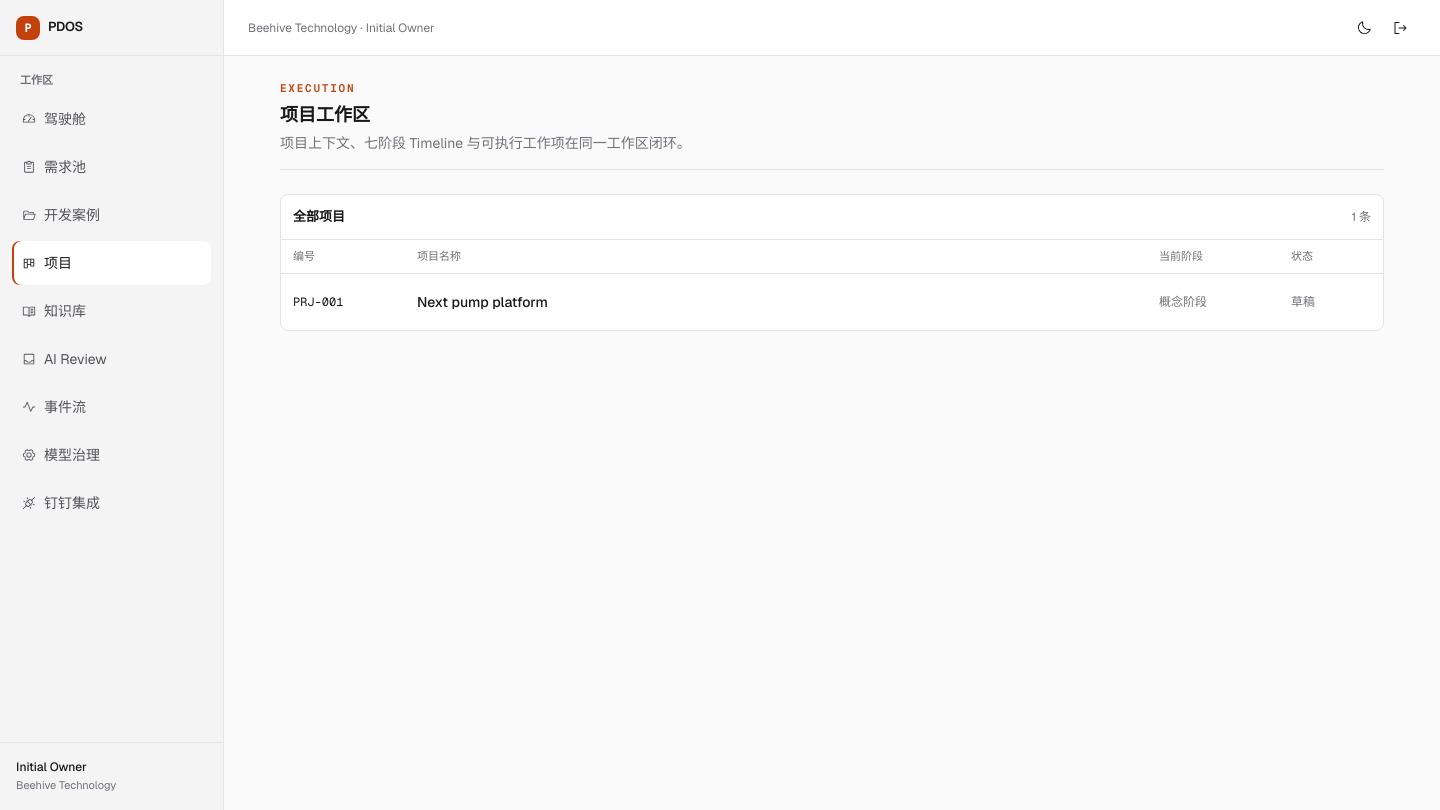
Scenario: ProjectWorkspace › keeps Gate load failures explicit and retryable
The image size is (1440, 810).
Click the button with aria-label "打开项目 PRJ-001": (318, 302) [281,274,1383,330]
(page scrolled)
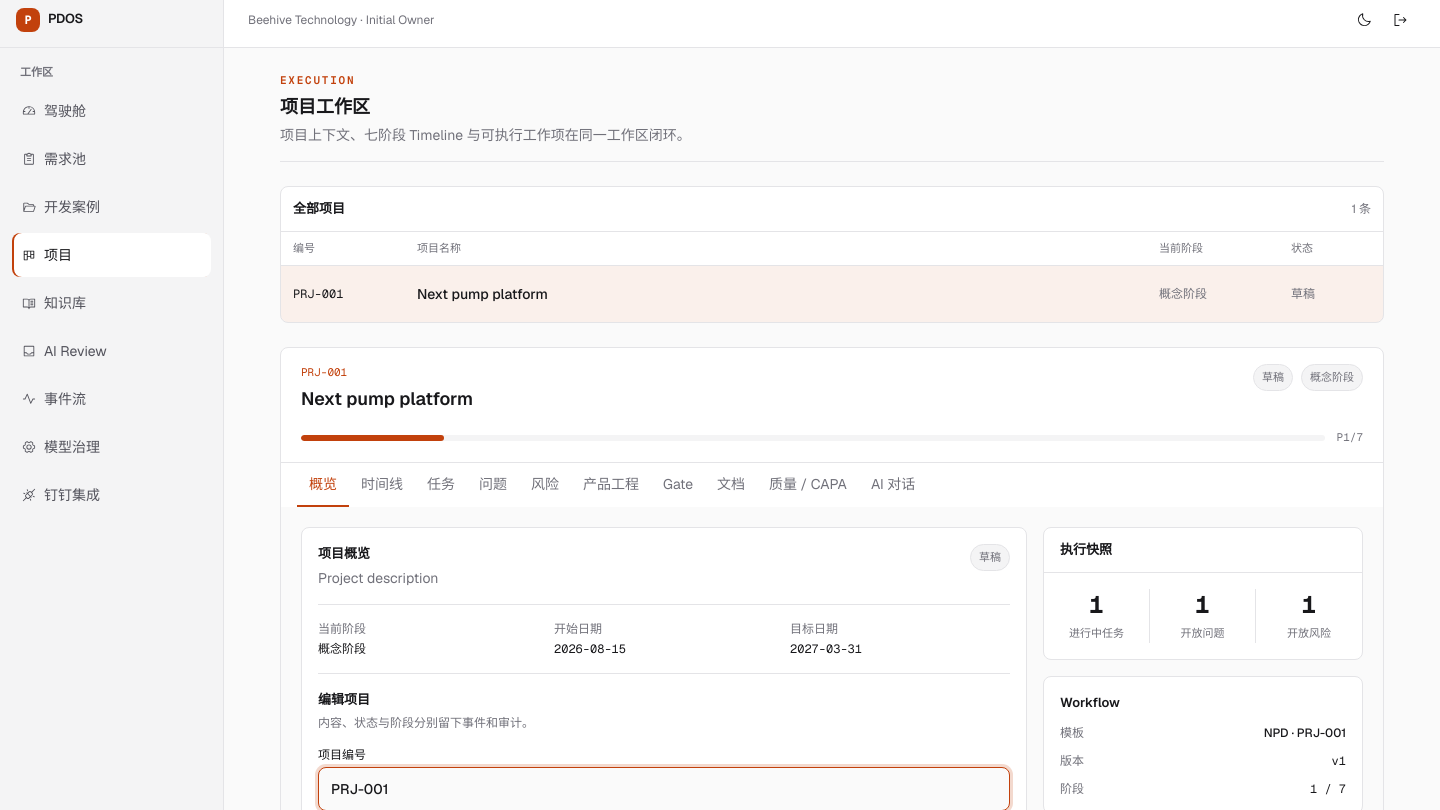
Click the tab "Gate": (678, 485) [651,463,705,507]
(page scrolled)
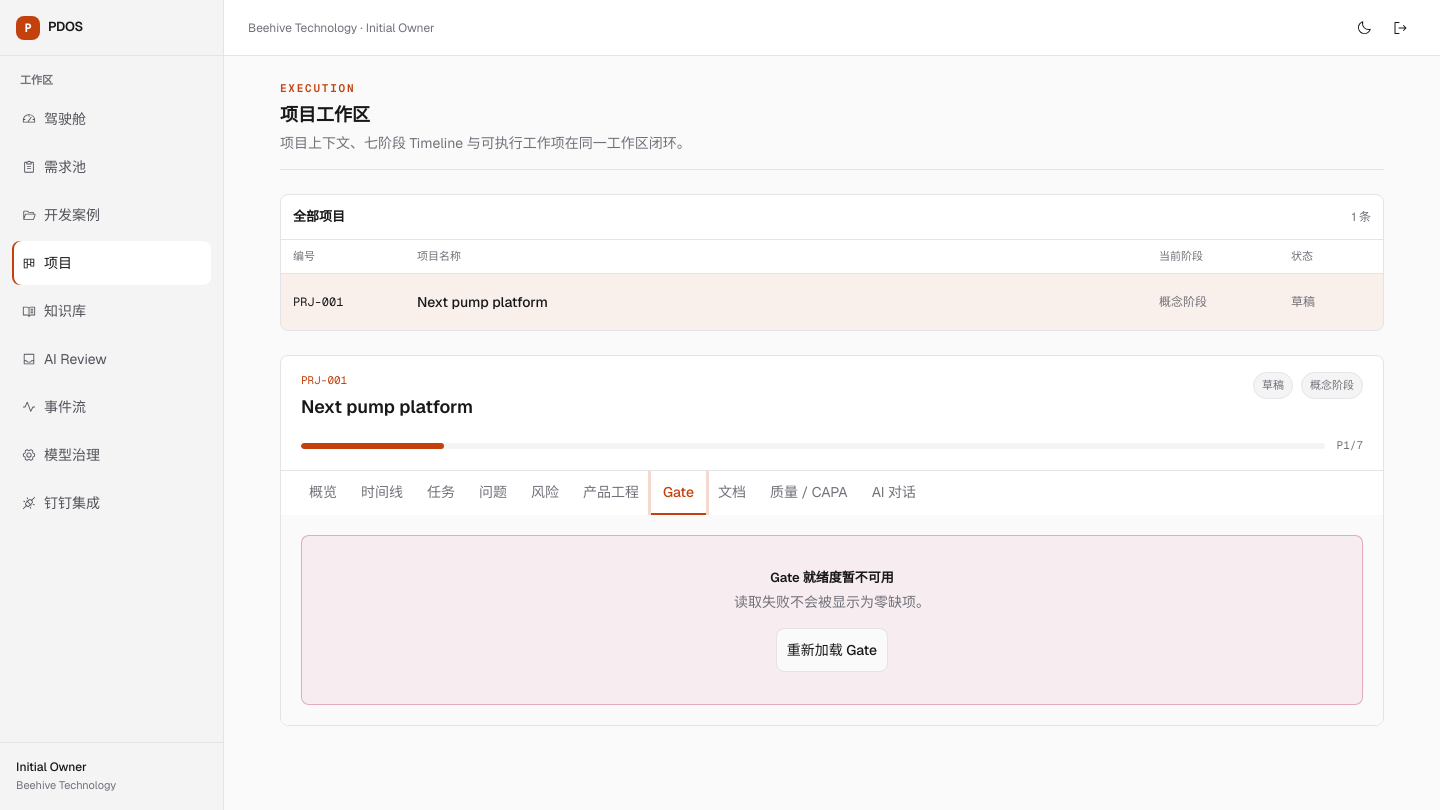
Expected: the text "尚未实例化 Gate" is not shown
Expected: the heading "Gate 就绪度暂不可用" is shown, [770,569,894,586]
Click the button "重新加载 Gate": (832, 650) [776,628,888,672]
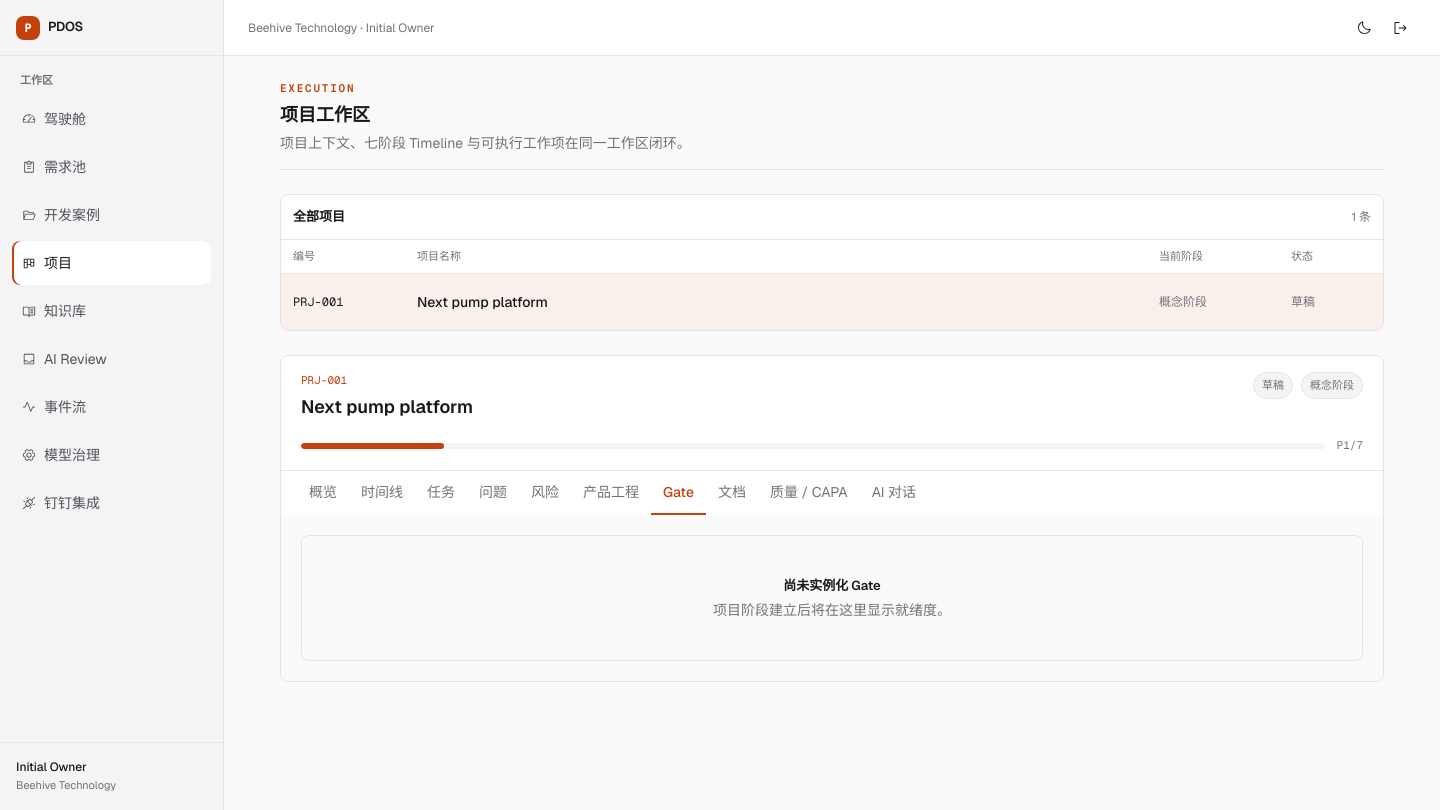
Expected: the heading "尚未实例化 Gate" is shown, [783,577,881,594]
